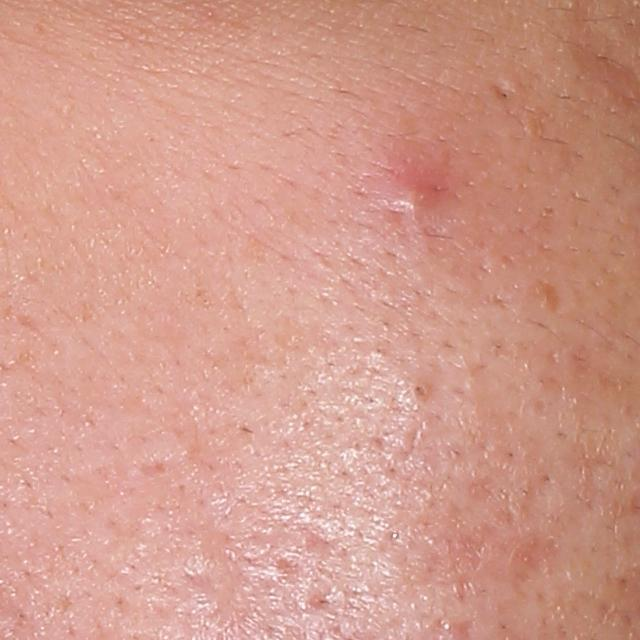atrophic_scar: (505, 533, 574, 590), (128, 452, 178, 486)
comedo: (406, 379, 430, 404)
